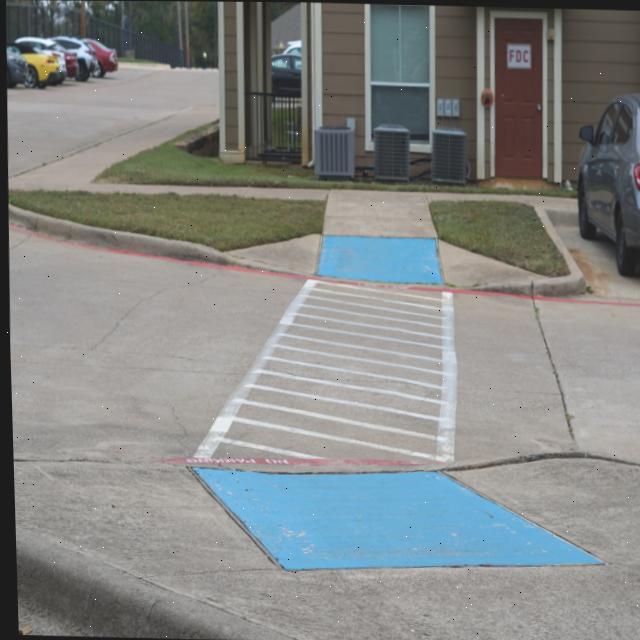Automobile: (575, 92, 640, 274), (6, 36, 117, 87), (272, 47, 300, 87)
Road: (7, 209, 640, 469)
Sidewalk: (11, 454, 640, 640), (7, 107, 585, 294), (427, 192, 575, 212)
